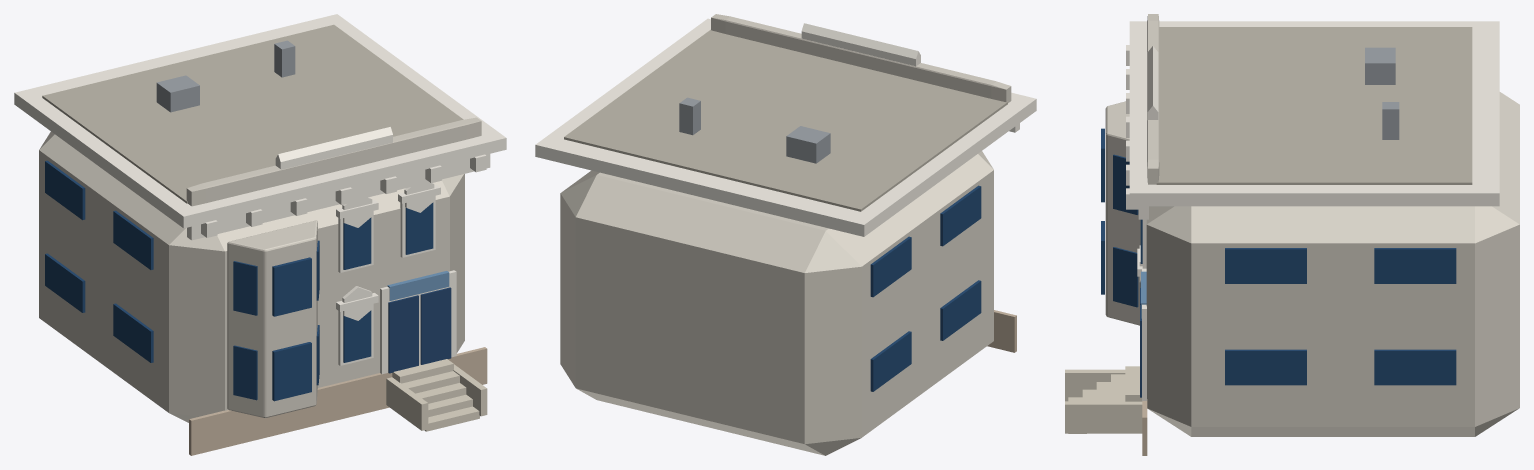
File: ital_w11_bay.glb
3 renders of one model, left to right at view 1: azimuth 30°, elevation 25°; view 2: azimuth 150°, elevation 25°; view 3: azimuth 270°, elevation 25°, orthographic. The views are drawn at different scales.
Parts seen in each view (by area): view 1: walls, roofslab, corn, bay, bsmt, fparapet, frieze, door.001, door, bw.001, bw, dfr (+27 smaller); view 2: walls, roofslab, corn, fparapet, sb.006, sb, sb.002, sb.004, hvac, roof, pcap, bsmt (+1 smaller); view 3: walls, roofslab, corn, bay, sb.003, sb.001, sb.007, sb.005, cheek.001, fparapet, bwa.001, hvac (+6 smaller).
Part boxes in pixels (x1=…): walls: x1=39, y1=131, x2=464, y2=422; roofslab: x1=42, y1=24, x2=463, y2=203; corn: x1=14, y1=14, x2=506, y2=228; bay: x1=227, y1=220, x2=317, y2=418; bsmt: x1=189, y1=347, x2=487, y2=455; fparapet: x1=186, y1=117, x2=481, y2=206; frieze: x1=187, y1=154, x2=490, y2=240; door.001: x1=420, y1=287, x2=451, y2=364; door: x1=388, y1=295, x2=418, y2=373; bw.001: x1=272, y1=257, x2=311, y2=316; bw: x1=272, y1=342, x2=311, y2=401; dfr: x1=380, y1=270, x2=456, y2=374; walls: x1=560, y1=151, x2=993, y2=455; roofslab: x1=564, y1=29, x2=1007, y2=211; corn: x1=535, y1=18, x2=1036, y2=236; fparapet: x1=711, y1=14, x2=1011, y2=102; sb.006: x1=870, y1=236, x2=911, y2=297; sb: x1=940, y1=280, x2=981, y2=340; sb.002: x1=870, y1=331, x2=911, y2=391; sb.004: x1=940, y1=185, x2=981, y2=246; hvac: x1=786, y1=126, x2=830, y2=163; roof: x1=801, y1=23, x2=920, y2=58; pcap: x1=801, y1=31, x2=920, y2=66; bsmt: x1=987, y1=310, x2=1016, y2=352; walls: x1=1146, y1=92, x2=1519, y2=436; roofslab: x1=1156, y1=27, x2=1472, y2=184; corn: x1=1129, y1=21, x2=1499, y2=206; bay: x1=1105, y1=101, x2=1140, y2=325; sb.003: x1=1374, y1=349, x2=1456, y2=385; sb.001: x1=1225, y1=349, x2=1306, y2=385; sb.007: x1=1374, y1=248, x2=1456, y2=283; sb.005: x1=1225, y1=248, x2=1306, y2=283; cheek.001: x1=1065, y1=401, x2=1142, y2=433; fparapet: x1=1147, y1=14, x2=1159, y2=184; bwa.001: x1=1113, y1=247, x2=1138, y2=307; hvac: x1=1365, y1=47, x2=1395, y2=84.
Bounding box in the file's own units: 12 × 9.85 × 13.4.
